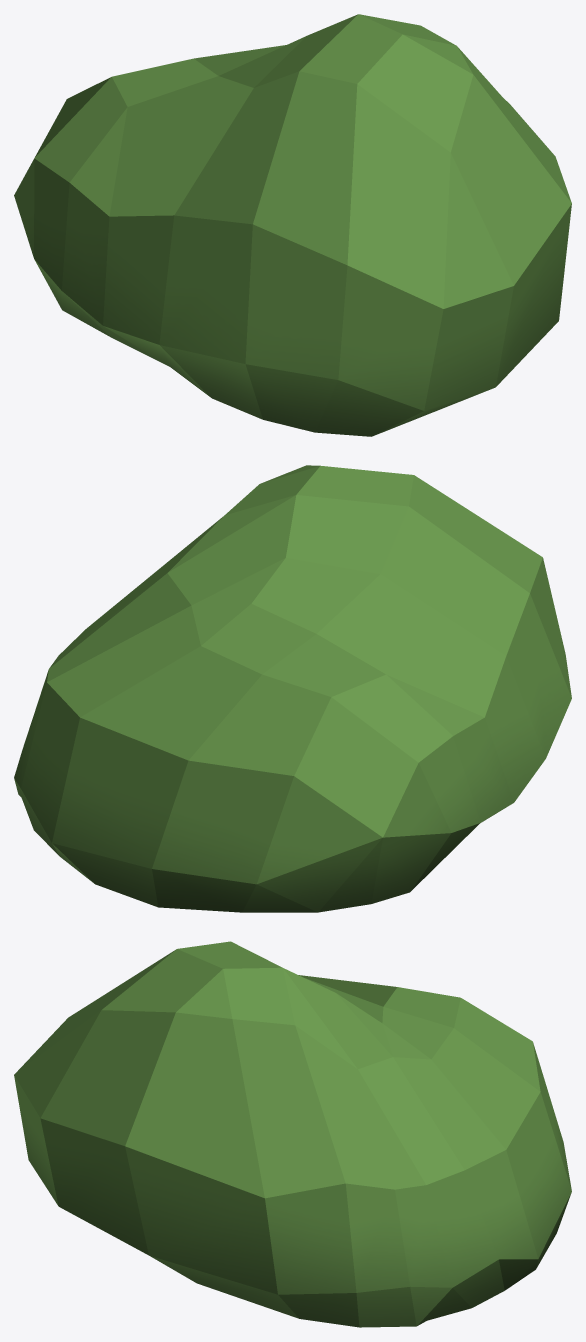
The model's file is Bush-02.FBX.
The picture shows the model from 3 angles, top to bottom: view 1: azimuth 30°, elevation 25°; view 2: azimuth 150°, elevation 25°; view 3: azimuth 270°, elevation 25°; orthographic projection. The views are drawn at different scales.
Visible parts, largest first — view 1: Bush-02; view 2: Bush-02; view 3: Bush-02.
Part boxes in pixels (x1=…): Bush-02: x1=14, y1=14, x2=571, y2=436; Bush-02: x1=14, y1=465, x2=571, y2=912; Bush-02: x1=14, y1=941, x2=571, y2=1327.
Size of the model in its own units: 231 by 153 by 278.
1 material, 1 textured.
